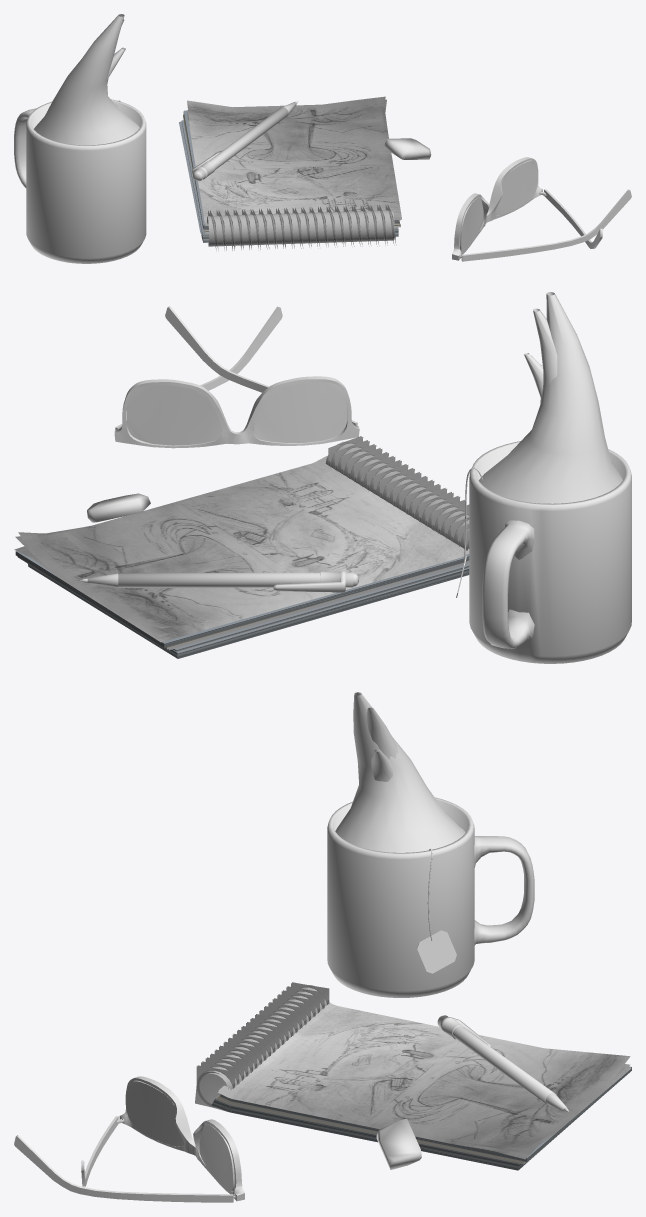
The model's file is simple things.fbx.
The picture shows the model from 3 angles, top to bottom: view 1: azimuth 30°, elevation 25°; view 2: azimuth 150°, elevation 25°; view 3: azimuth 270°, elevation 25°; orthographic projection. The views are drawn at different scales.
Parts seen in each view (by area): view 1: Cube.018, Cup_LP.002, Steam.003, Cylinder.001, Zekalo_lp.001, Plane, Ochki_lp.001, Duhka_lp.002, Pen_LP, LP.001, Duhka_lp.001, Cube.010 (+1 smaller); view 2: Cube.018, Cup_LP.002, Steam.003, Zekalo_lp.001, Plane, Cube.009, Ochki_lp.001, Pen_LP, Cube.010, Cylinder.001, Duhka_lp.002, LP.001 (+8 smaller); view 3: Cube.018, Cup_LP.002, Steam.003, Plane, Zekalo_lp.001, Ochki_lp.001, Duhka_lp.001, Cube.009, Pen_LP, LP.001, Cylinder.001, Cube.010 (+4 smaller).
Boxes of the visible parts, x1,y1,x2,y2 form: Cube.018: (187,96,400,224); Cup_LP.002: (14,99,146,263); Steam.003: (34,14,139,145); Cylinder.001: (207,210,394,246); Zekalo_lp.001: (459,160,537,252); Plane: (208,204,396,251); Ochki_lp.001: (452,157,542,260); Duhka_lp.002: (461,189,631,261); Pen_LP: (193,101,297,180); LP.001: (383,138,431,159); Duhka_lp.001: (544,189,602,248); Cube.010: (183,110,399,229); Cube.018: (18,455,469,628); Cup_LP.002: (469,441,631,663); Steam.003: (479,292,622,503); Zekalo_lp.001: (126,382,347,445); Plane: (328,436,469,550); Cube.009: (28,563,469,658); Ochki_lp.001: (114,376,359,448); Pen_LP: (80,572,358,587); Cube.010: (15,551,469,647); Cylinder.001: (325,441,469,550); Duhka_lp.002: (165,306,357,425); LP.001: (87,493,150,522); Cube.018: (218,1002,630,1146); Cup_LP.002: (327,797,534,997); Steam.003: (335,692,464,852); Plane: (195,982,329,1111); Zekalo_lp.001: (126,1080,234,1191); Ochki_lp.001: (119,1076,244,1201); Duhka_lp.001: (14,1135,233,1202); Cube.009: (211,1095,584,1170); Pen_LP: (437,1016,568,1111); LP.001: (376,1118,421,1169); Cylinder.001: (197,985,328,1089); Cube.010: (220,1066,631,1161).
Size of the model in its own units: 3852 by 1862 by 3606.
